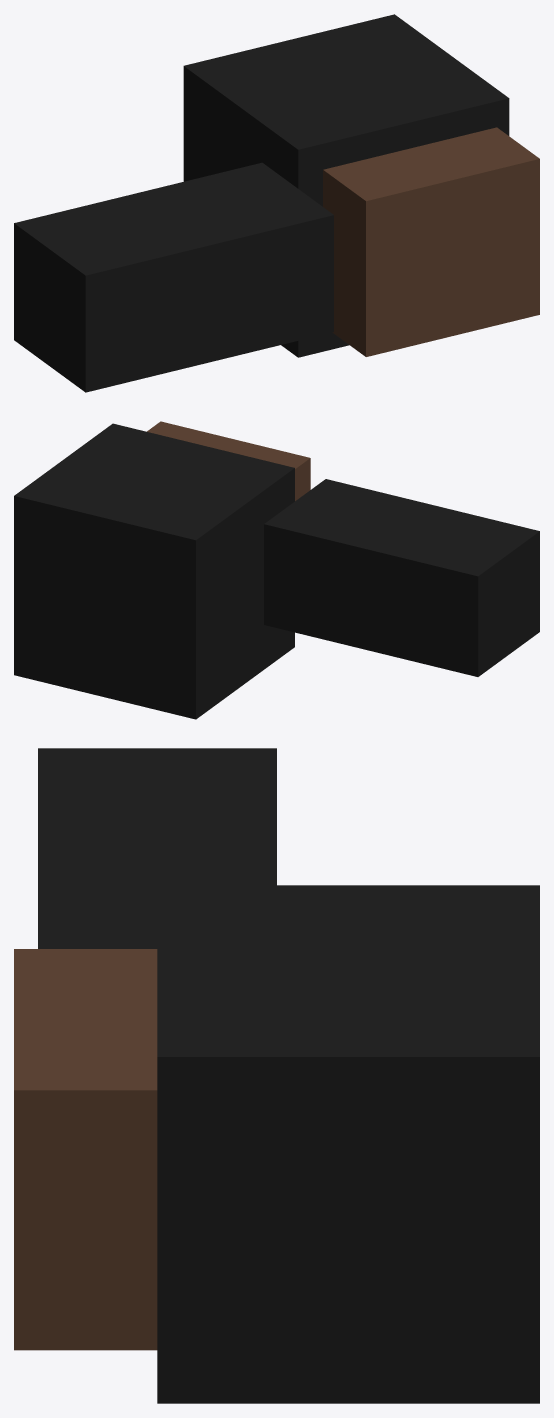
File: overturned_delivery_van_engine.glb
The picture shows the model from 3 angles, top to bottom: view 1: azimuth 30°, elevation 25°; view 2: azimuth 150°, elevation 25°; view 3: azimuth 270°, elevation 25°; orthographic projection. The views are drawn at different scales.
Parts seen in each view (by area): view 1: body:compound; view 2: body:compound; view 3: body:compound.
Part boxes in pixels (box(x1,y1,x2,y2)): body:compound: box(14, 14, 539, 392); body:compound: box(14, 421, 539, 719); body:compound: box(14, 748, 539, 1403).
Size of the model in its own units: 1.16 by 0.5 by 0.6875.
